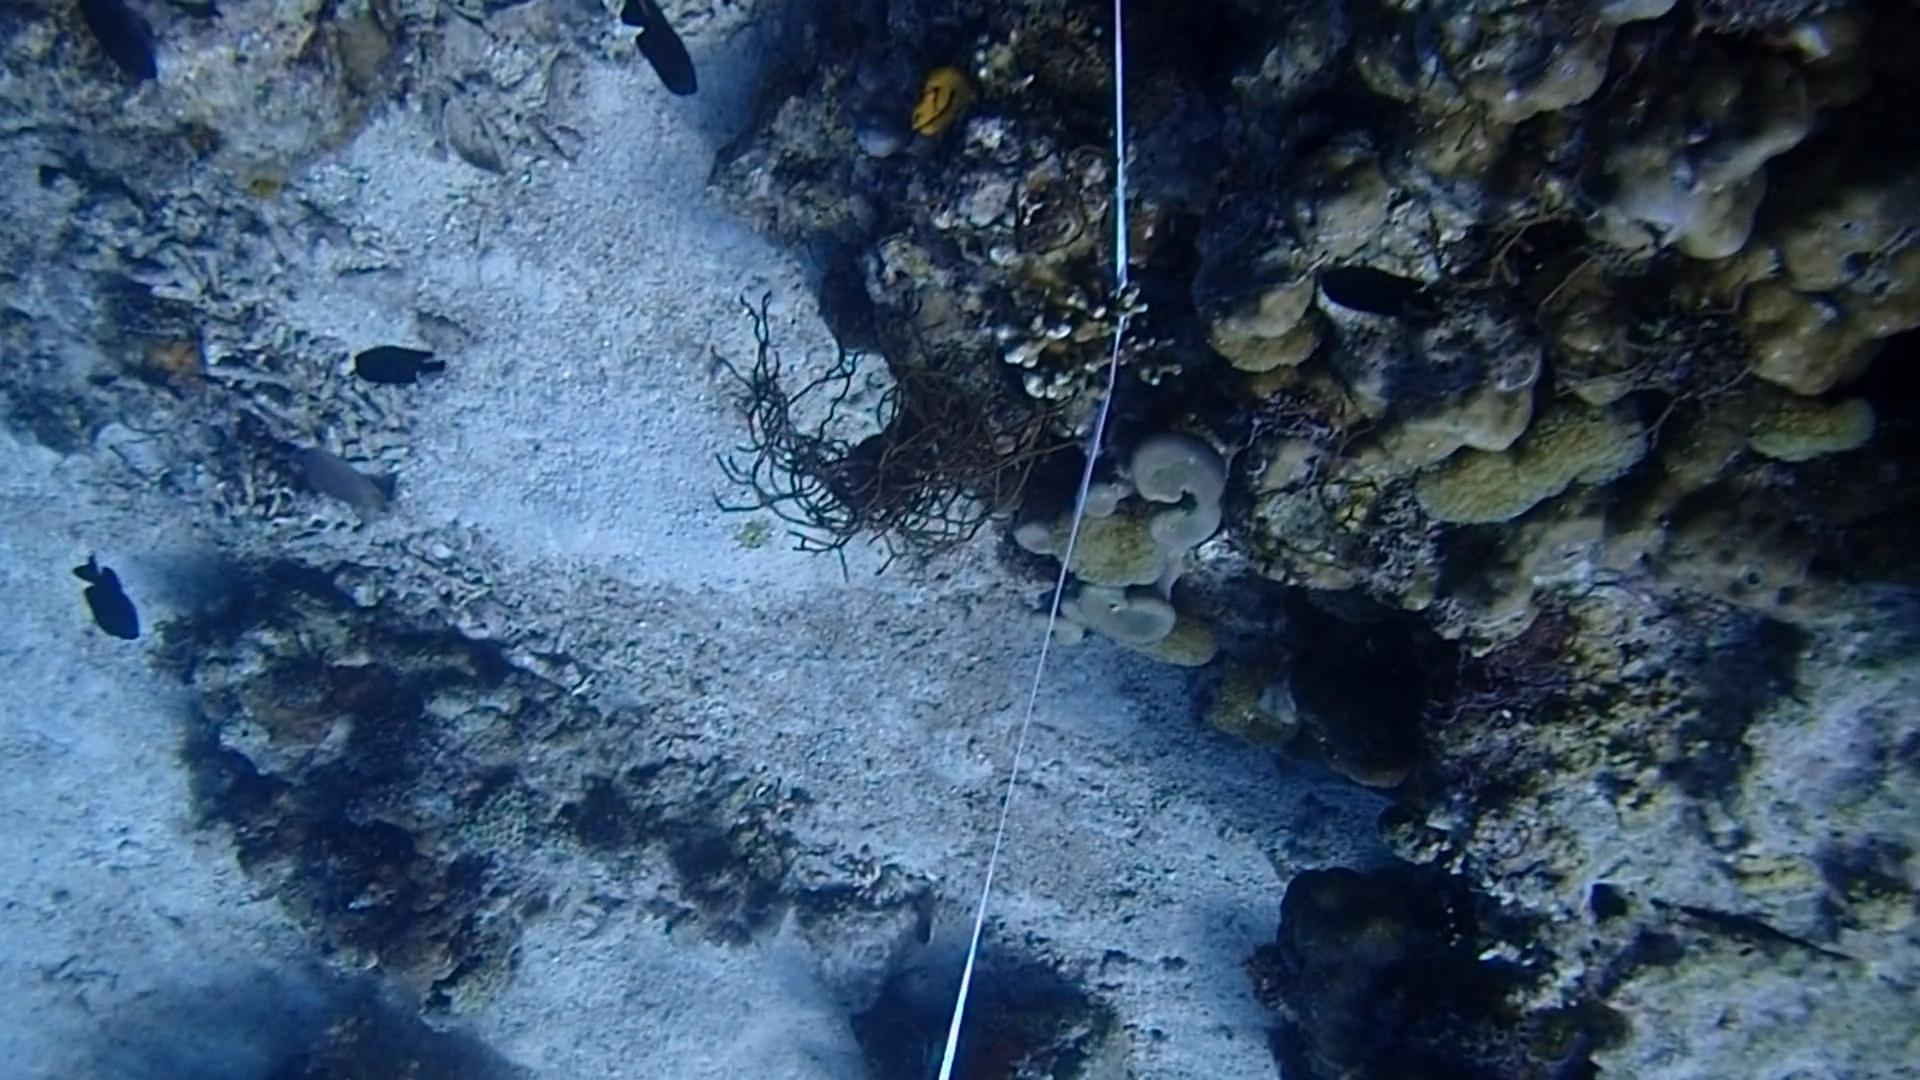Dark Fish: (607, 0, 715, 113), (49, 547, 150, 653), (74, 0, 173, 95), (345, 324, 451, 398)
Light Fish: (277, 434, 404, 525)
